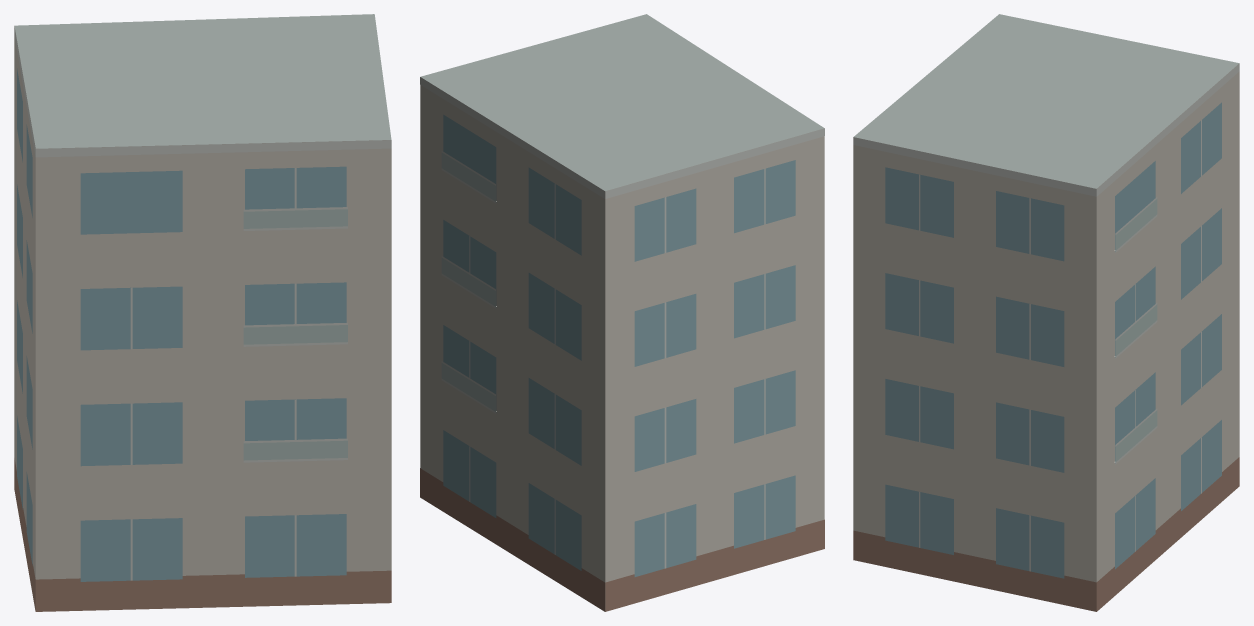
Rendered from survey-upis-32904141.glb.
3 renders of one model, left to right at view 1: azimuth 30°, elevation 25°; view 2: azimuth 150°, elevation 25°; view 3: azimuth 270°, elevation 25°, orthographic. The views are drawn at different scales.
Visible parts, largest first — view 1: survey-upis-32904141.tmp; view 2: survey-upis-32904141.tmp; view 3: survey-upis-32904141.tmp.
Part boxes in pixels (x1,y1,x2,y2): survey-upis-32904141.tmp: (14,14,391,611); survey-upis-32904141.tmp: (420,14,824,611); survey-upis-32904141.tmp: (853,14,1239,611).
Size of the model in its own units: 11.53 by 13 by 10.77.
